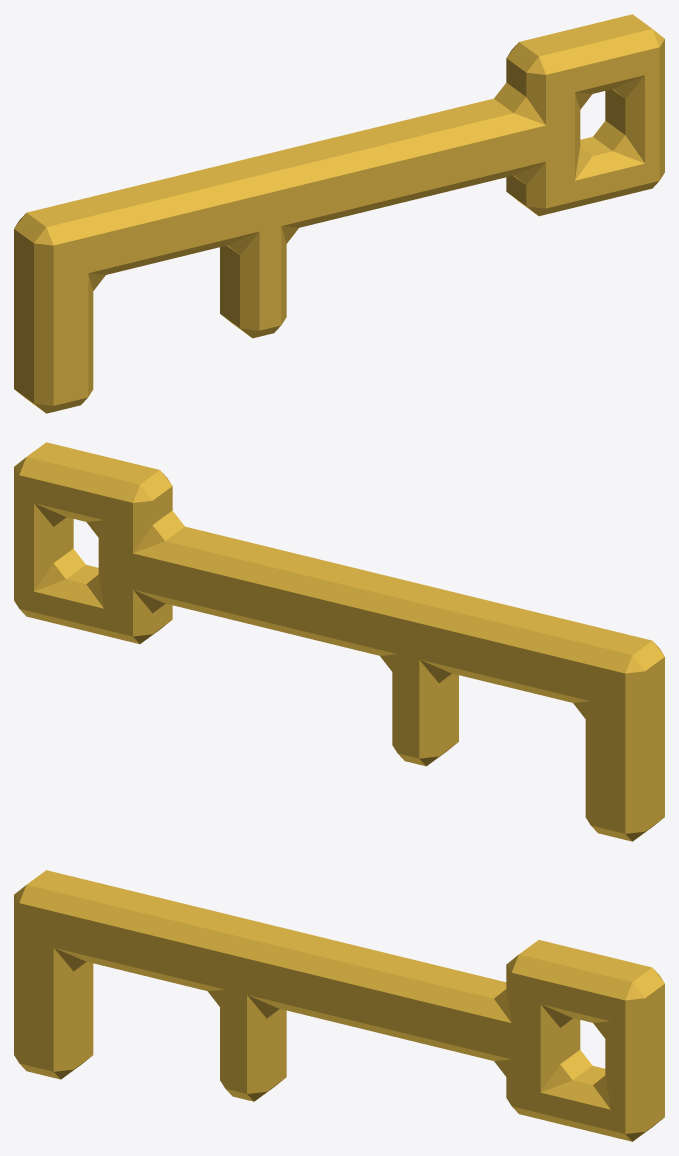
The model's file is Llave.fbx.
3 views of the same model, one above another, from view 1: azimuth 30°, elevation 25°; view 2: azimuth 150°, elevation 25°; view 3: azimuth 330°, elevation 25° (orthographic).
Parts seen in each view (by area): view 1: Cube; view 2: Cube; view 3: Cube.
Part boxes in pixels (bbox=[...]): Cube: bbox=[14, 14, 664, 413]; Cube: bbox=[14, 442, 664, 841]; Cube: bbox=[14, 870, 664, 1141].
Size of the model in its own units: 52.91 by 18.99 by 4.99.
